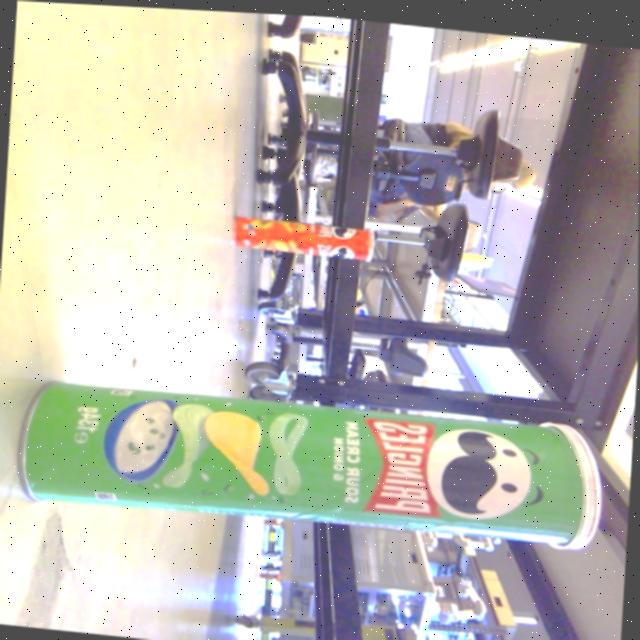greenpringles: (7, 332, 613, 582)
redpringles: (227, 203, 372, 266)
